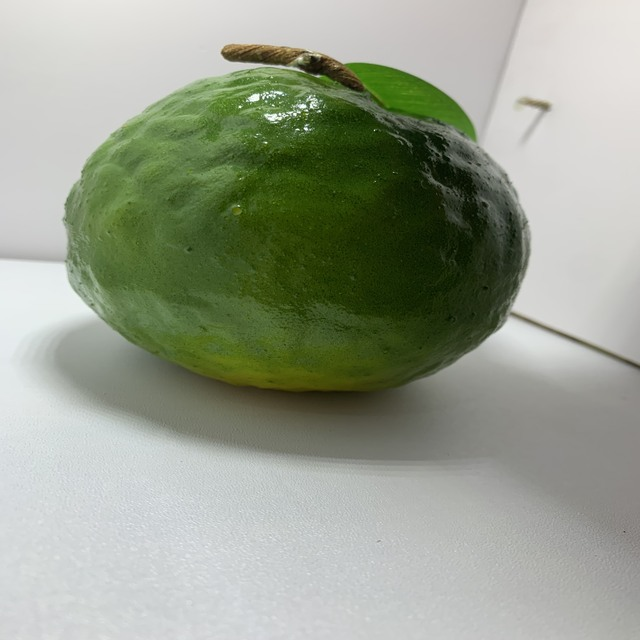Cam xanh: (54, 34, 534, 408)
